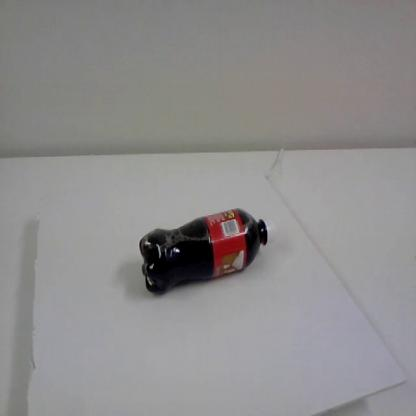bottle: (136, 206, 276, 298)
